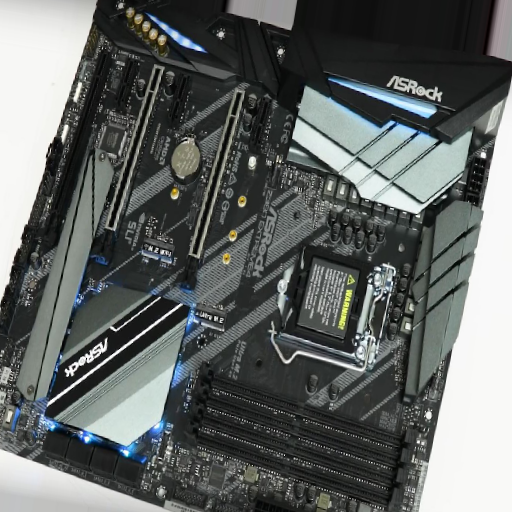CPU: (270, 244, 387, 365)
GPU: (95, 61, 163, 269), (179, 88, 244, 293)
MOTHERBOARD: (2, 1, 505, 508)
RAM: (179, 361, 419, 511)
SSD: (137, 232, 178, 266), (191, 302, 231, 333)
